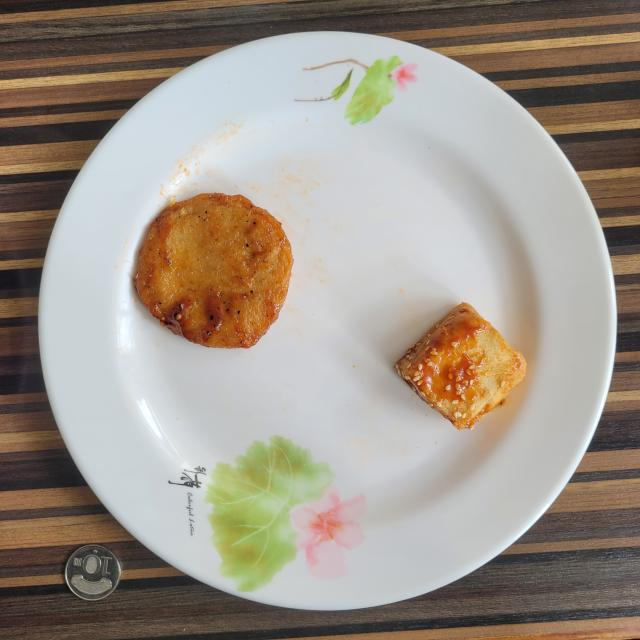coin: (65, 545, 121, 600)
creamy tofu: (396, 302, 526, 430)
fish cake: (135, 194, 292, 349)
